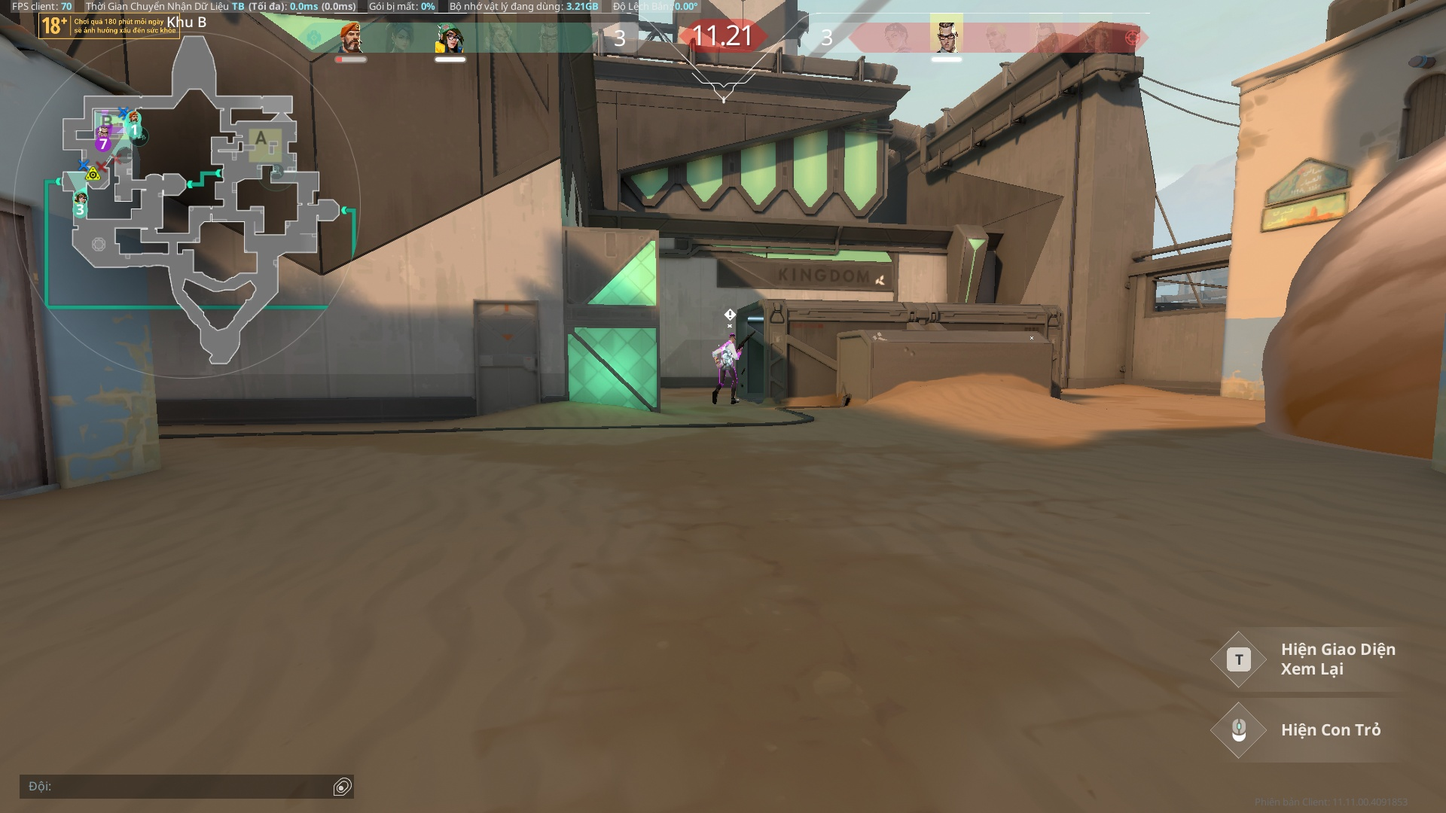body: (720, 341, 737, 361)
head: (728, 332, 734, 341)
